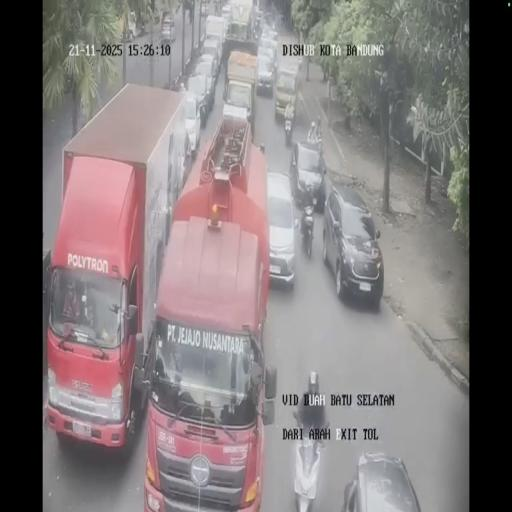car: (325, 184, 383, 305), (266, 170, 296, 286), (289, 138, 326, 210), (186, 72, 212, 131), (200, 37, 222, 79), (277, 56, 301, 90), (258, 34, 278, 74), (160, 14, 174, 42), (220, 3, 232, 28), (253, 8, 263, 35), (199, 0, 209, 16)
motorcycle: (302, 210, 315, 258), (284, 114, 294, 146)
truck: (47, 82, 192, 453), (223, 48, 259, 129)
